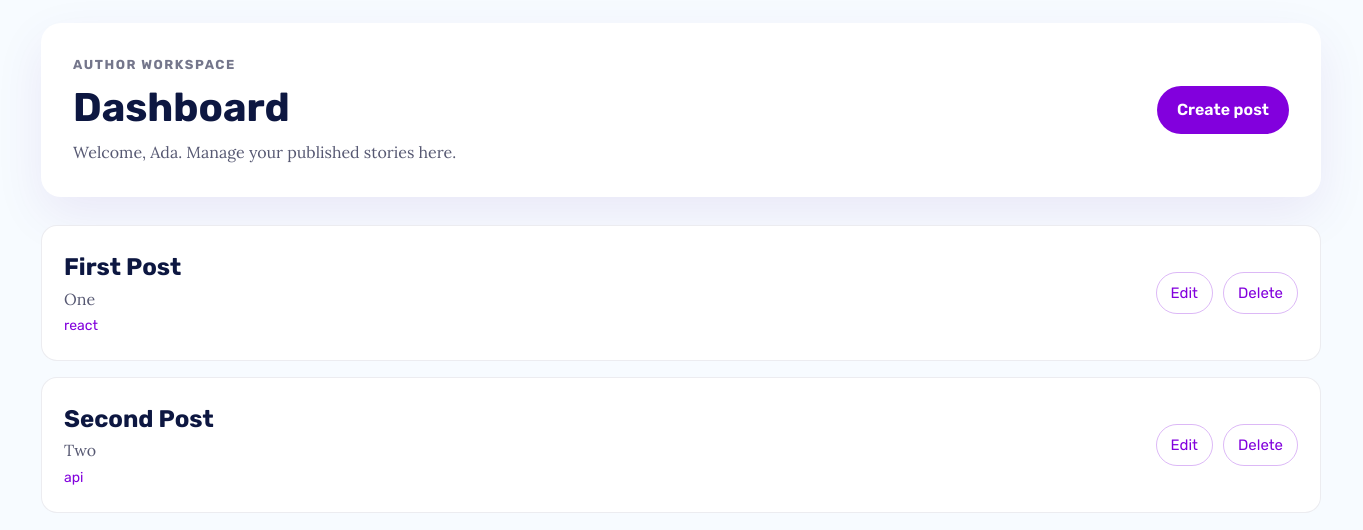
DashboardPage workflows › shows author posts with create, edit, and delete actions
The width and height of the screenshot is (1363, 530).
Expected: the link "First Post" is shown, [64,253,181,281]
What coordinates should you click on to do the following:
click the button "Delete" in the row of "First Post"
I would click on:
 (1260, 293)
Its box is [1223,272,1298,314].
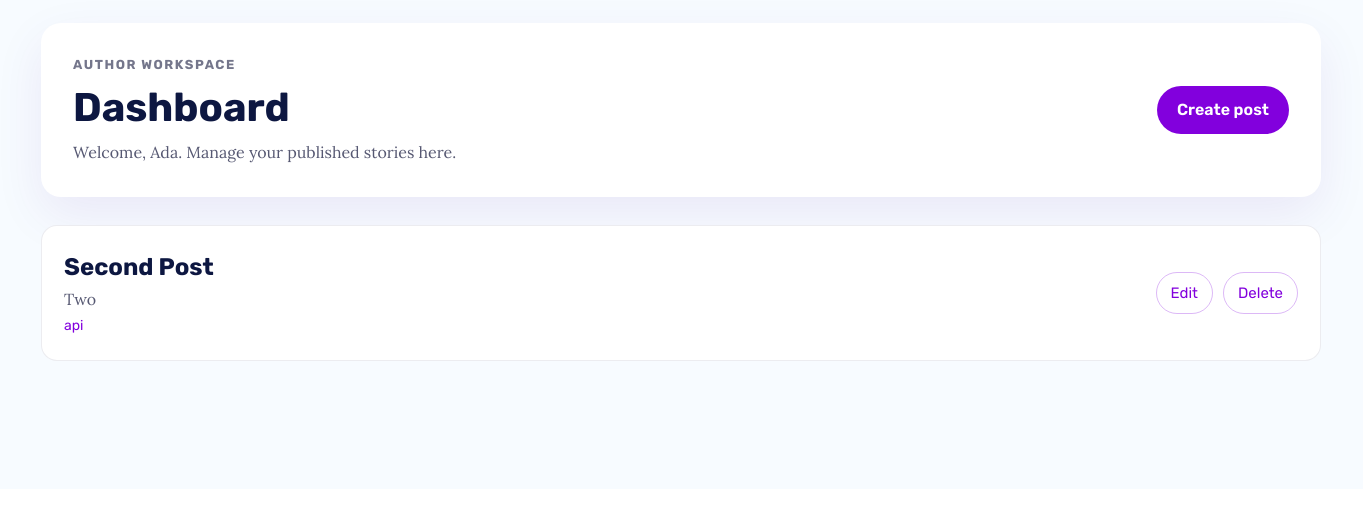
Expected: the link "Second Post" is shown, [64,253,214,281]
Now the link "First Post" is gone
